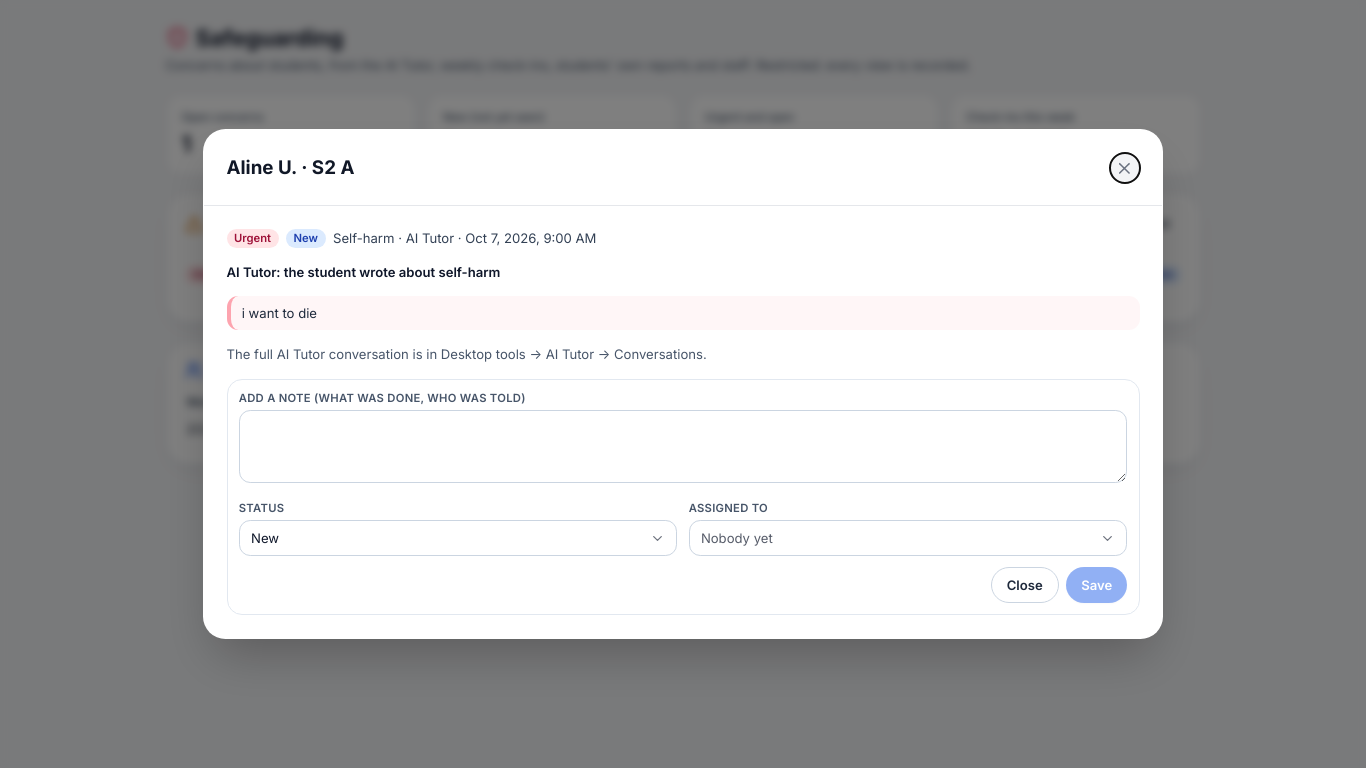
Test: Safeguarding (team) › lists concerns, opens one from the notification link, and saves a note with status and assignment
The image size is (1366, 768).
Check: the element with test id "sg-summary" shows "120 / 300", box [966,130,1070,156]
Check: the list with test id "sg-rows" shows "Aline U. · Self-harm", box [185,247,1181,303]
Type "Met the student" into the text box labelled "Add a note (what was done, who was told)" at (683, 447), box [239,410,1127,483]
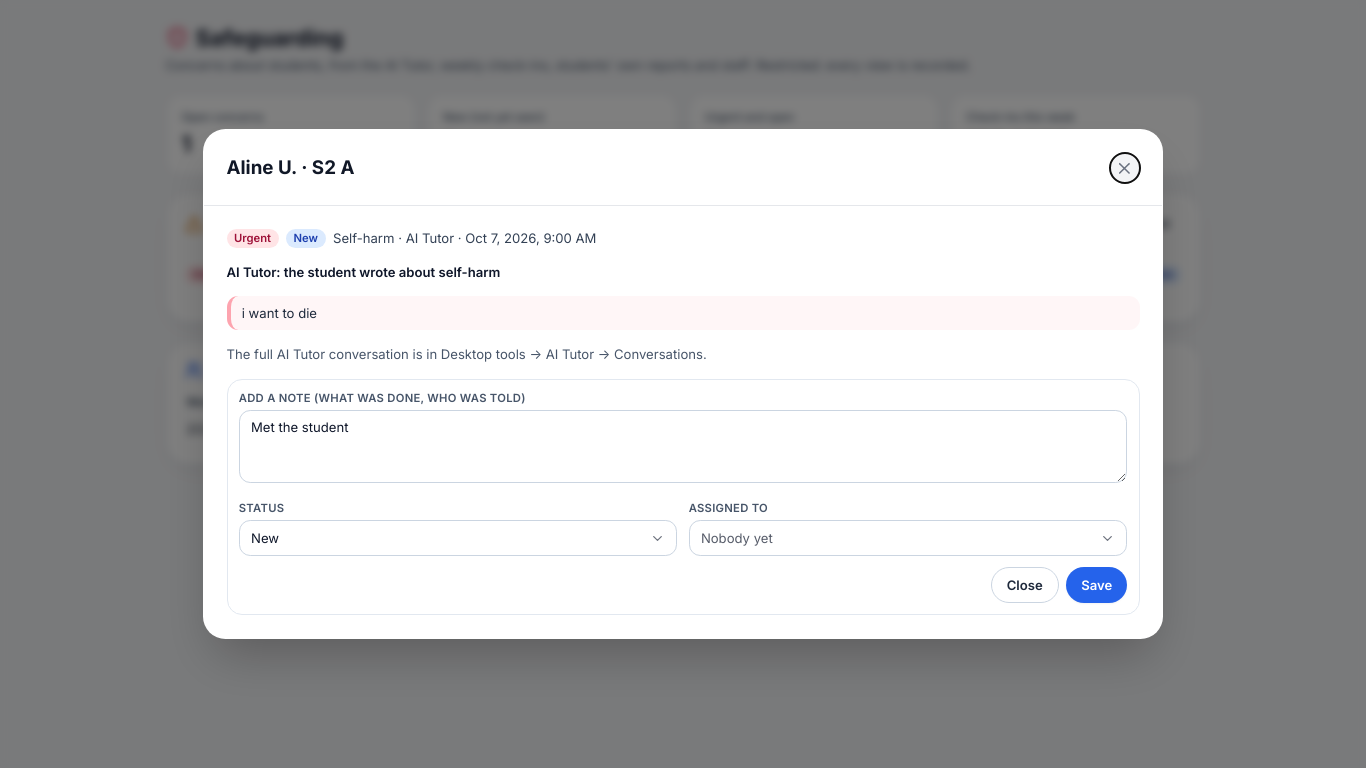
Select "In progress" in the dropdown with id "sg-status" at (262, 508), box [239,501,284,515]
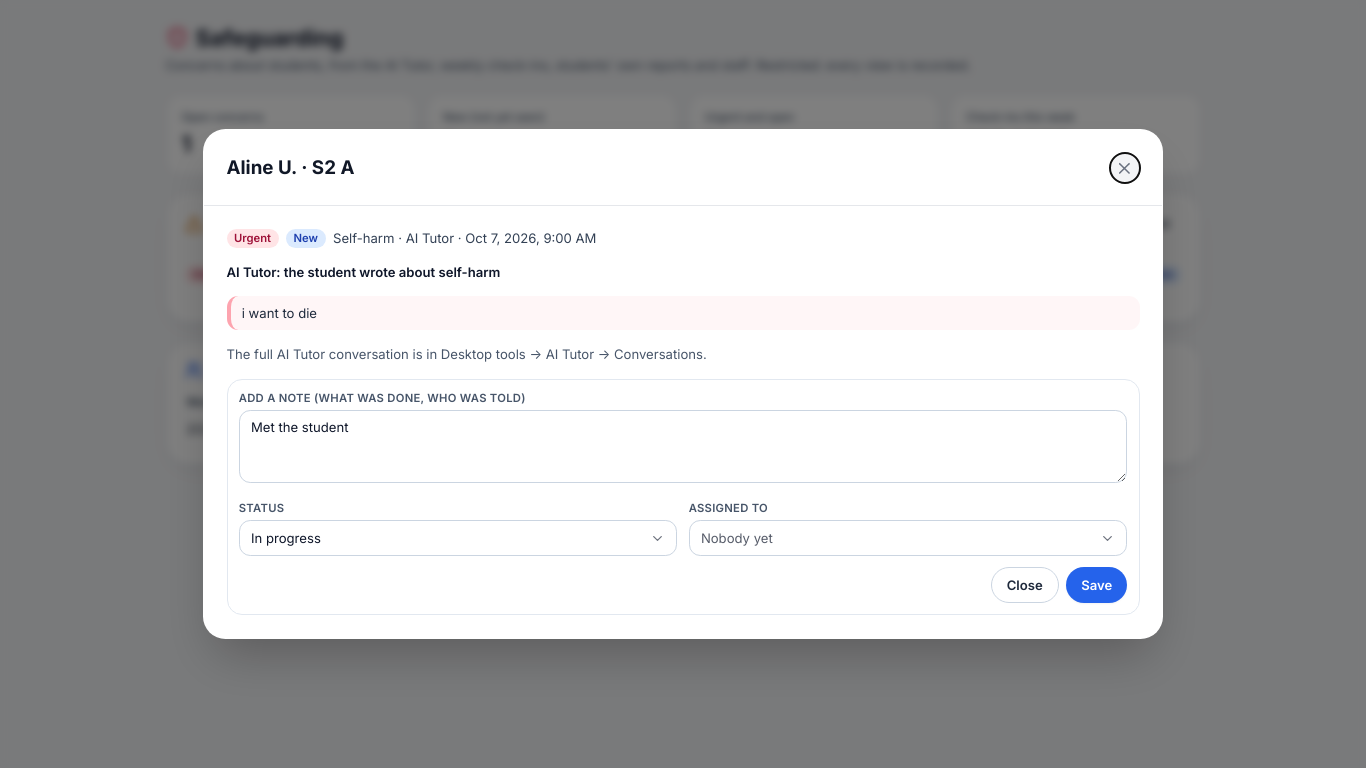
Select "Grace Counsellor" in the dropdown with id "sg-assign" at (728, 508), box [689,501,768,515]
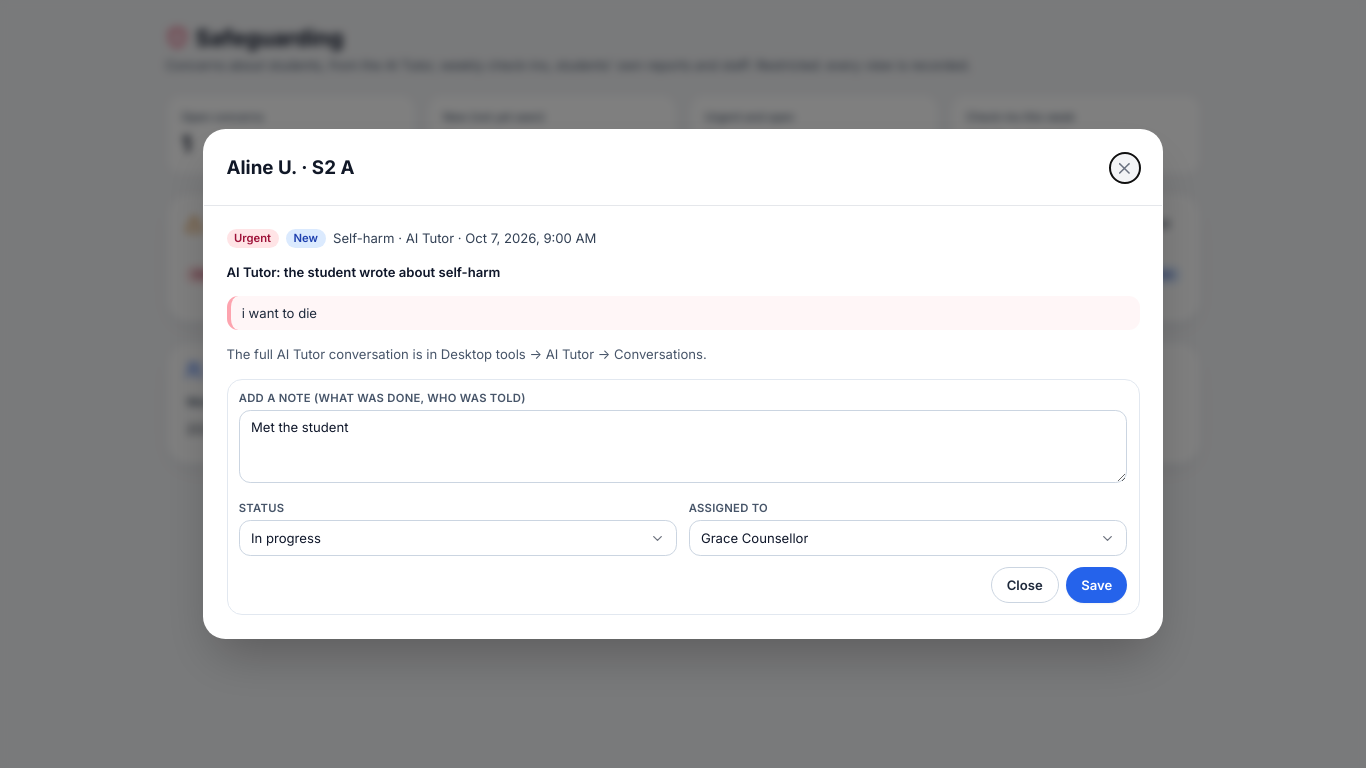
Click the button "Save" at (1097, 585), box [1066,567,1127,603]
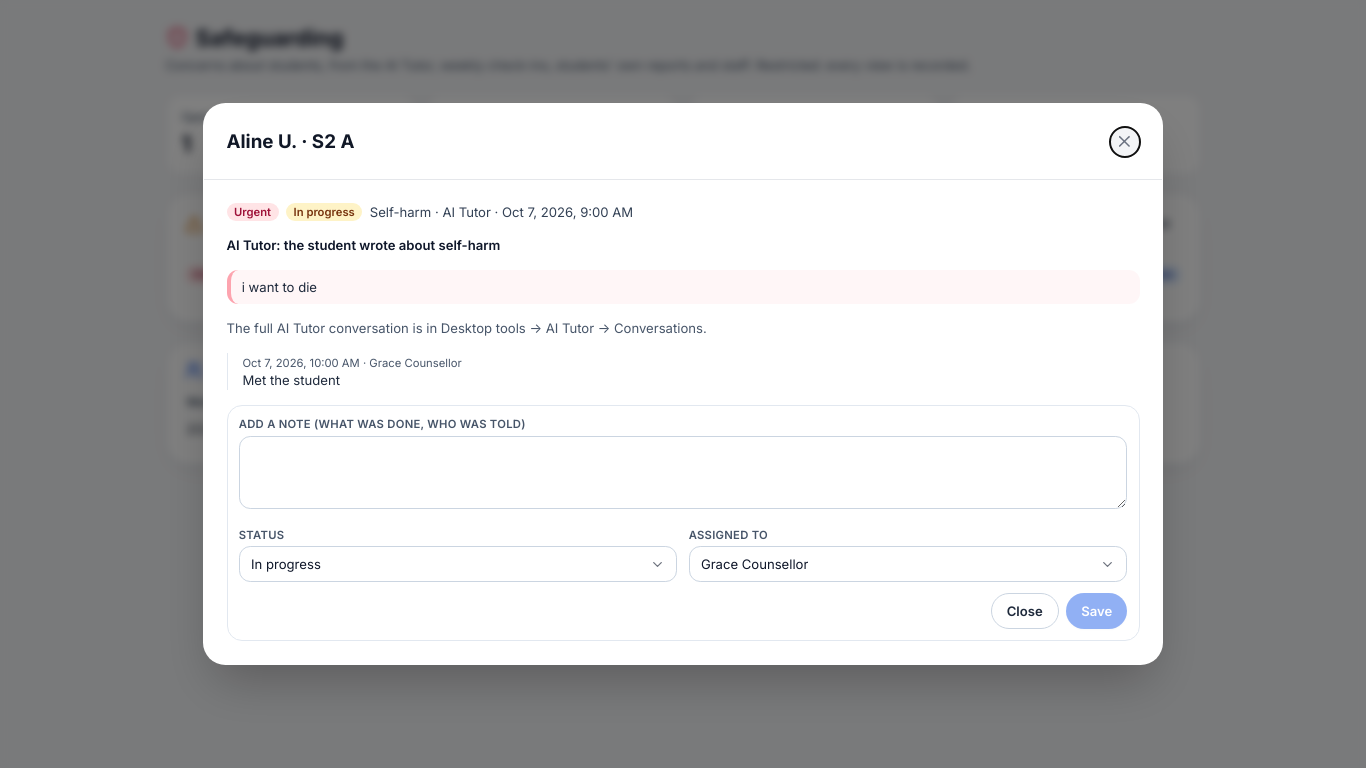
Check: the text "Met the student" is shown, box [242,372,340,388]
